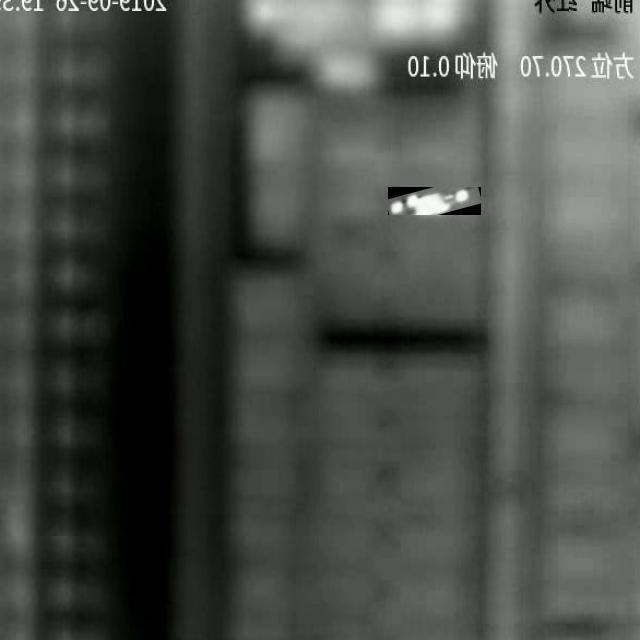drone: (388, 187, 475, 215)
